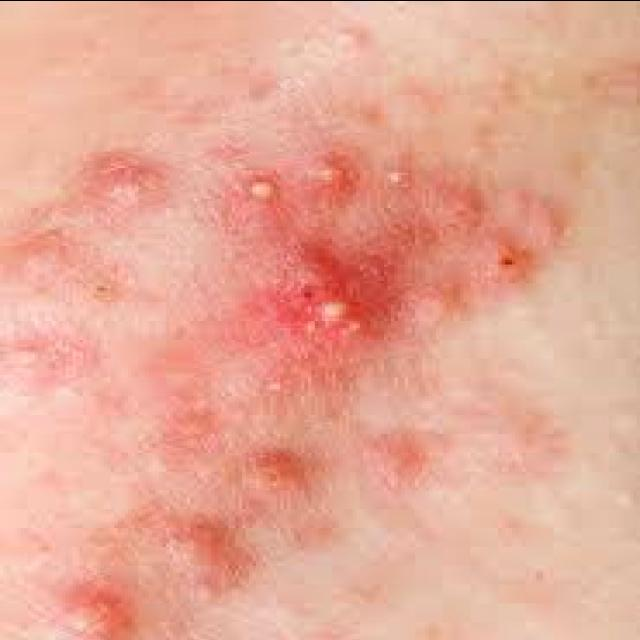Acne: (281, 244, 391, 338), (86, 148, 174, 209), (0, 331, 101, 383), (45, 584, 135, 640), (238, 446, 304, 494), (300, 147, 365, 195), (363, 436, 422, 486), (482, 240, 530, 286), (238, 170, 286, 207), (382, 166, 420, 192), (336, 24, 370, 50)
